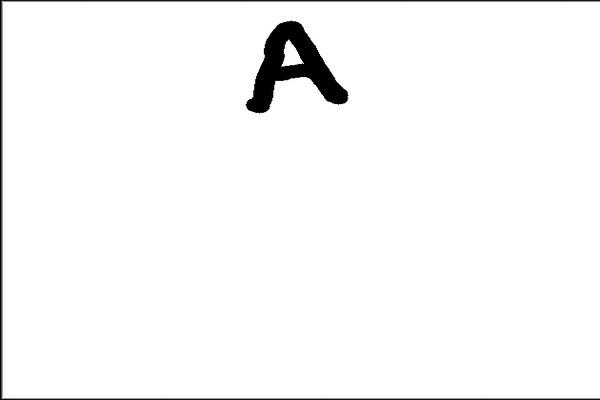A: (239, 16, 354, 120)
